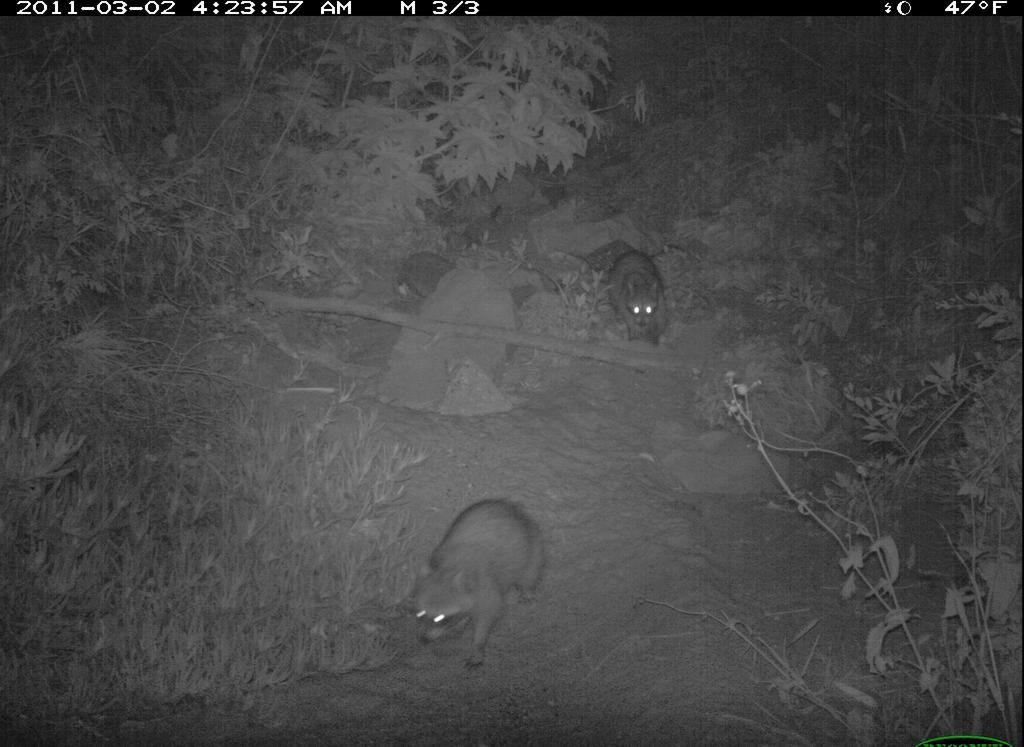raccoon: (405, 465, 567, 678), (585, 224, 695, 350)
